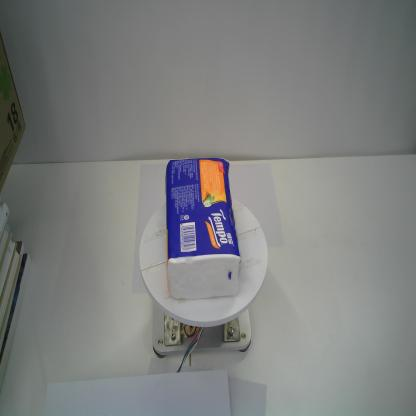Tissue: (164, 156, 242, 301)
